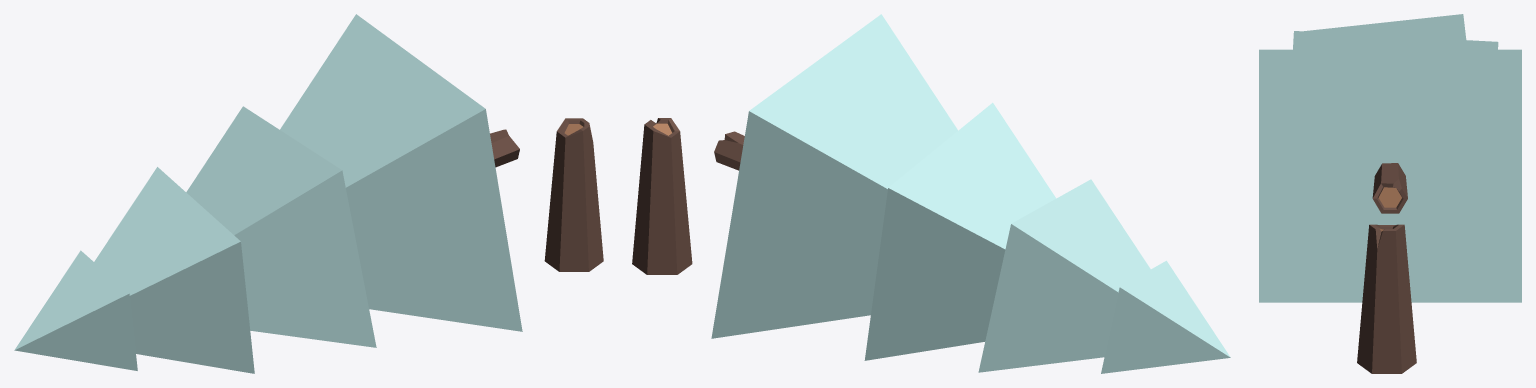
The model's file is WinterFallenTree_01.fbx.
3 renders of one model, left to right at view 1: azimuth 30°, elevation 25°; view 2: azimuth 150°, elevation 25°; view 3: azimuth 270°, elevation 25°, orthographic. The views are drawn at different scales.
Parts seen in each view (by area): view 1: WinterFallenTree_01; view 2: WinterFallenTree_01; view 3: WinterFallenTree_01.
Part boxes in pixels (x1=…): WinterFallenTree_01: x1=14, y1=14, x2=603, y2=373; WinterFallenTree_01: x1=632, y1=14, x2=1230, y2=373; WinterFallenTree_01: x1=1259, y1=14, x2=1521, y2=373.
Size of the model in its own units: 889 by 347 by 344.
